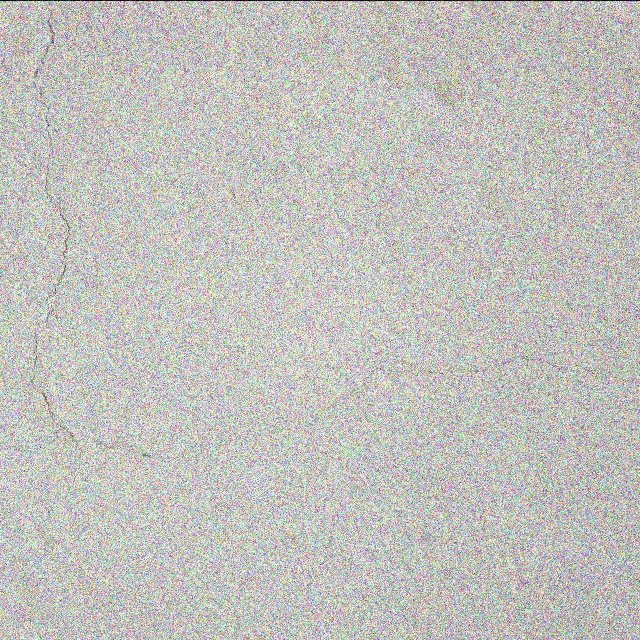SurfaceCrack: (3, 306, 640, 481)
